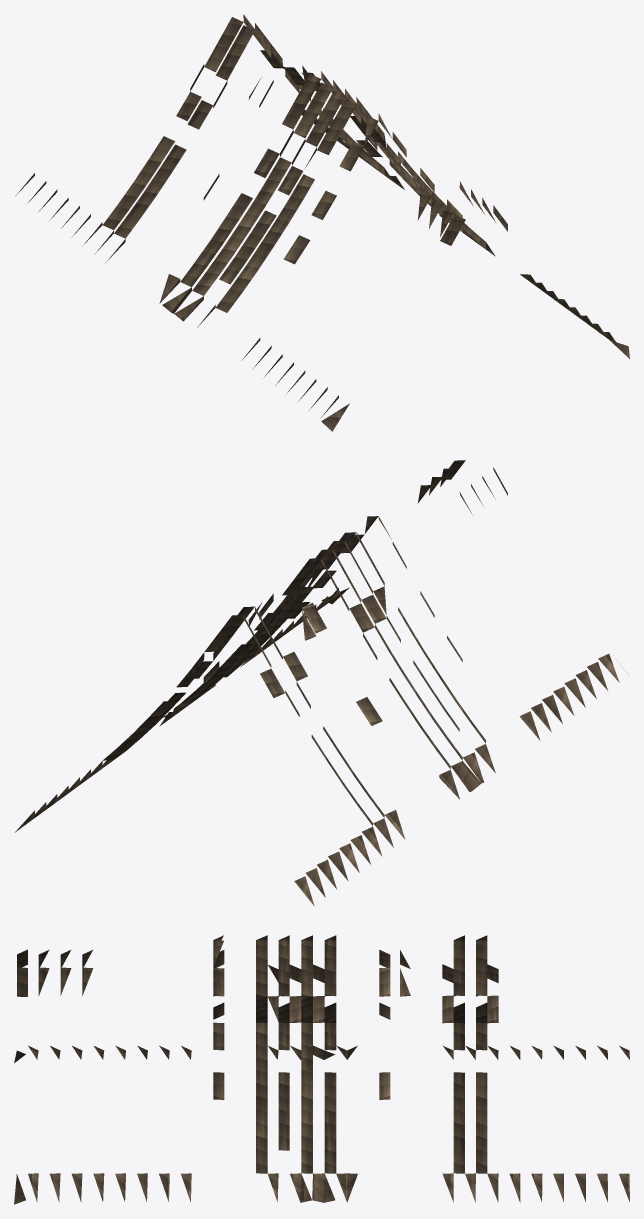
File: Roof_Shingle_6x14_LOD2.gltf
The picture shows the model from 3 angles, top to bottom: view 1: azimuth 30°, elevation 25°; view 2: azimuth 150°, elevation 25°; view 3: azimuth 270°, elevation 25°; orthographic projection. The views are drawn at different scales.
Parts seen in each view (by area): view 1: Roof_Shingle_6x14_LOD2; view 2: Roof_Shingle_6x14_LOD2; view 3: Roof_Shingle_6x14_LOD2.
Boxes of the visible parts, <box> form: Roof_Shingle_6x14_LOD2: <box>15,14,629,431</box>; Roof_Shingle_6x14_LOD2: <box>15,460,628,905</box>; Roof_Shingle_6x14_LOD2: <box>14,935,629,1204</box>.
Size of the model in its own units: 8.25 by 5.17 by 14.72.
Materials: 1 (1 with a texture image).
